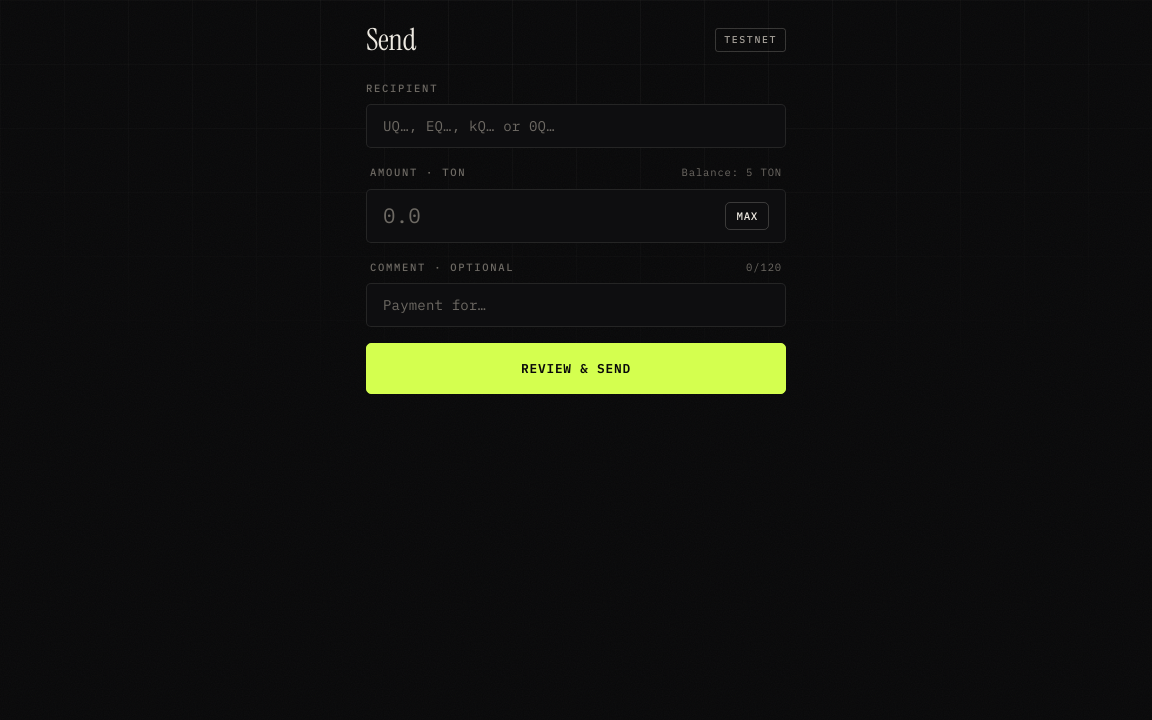
Test case: Send page — validation › accepts the 0Q… form the wallet generates for itself
This screenshot has width=1152, height=720.
In the field with placeholder "UQ…, EQ…, kQ… or 0Q…": (576, 126) [383,117,769,135], type "0QB8D0jMgaptSs8Jr79WLmFumjm3WxhTT8GyfP_gyRaaSe62"
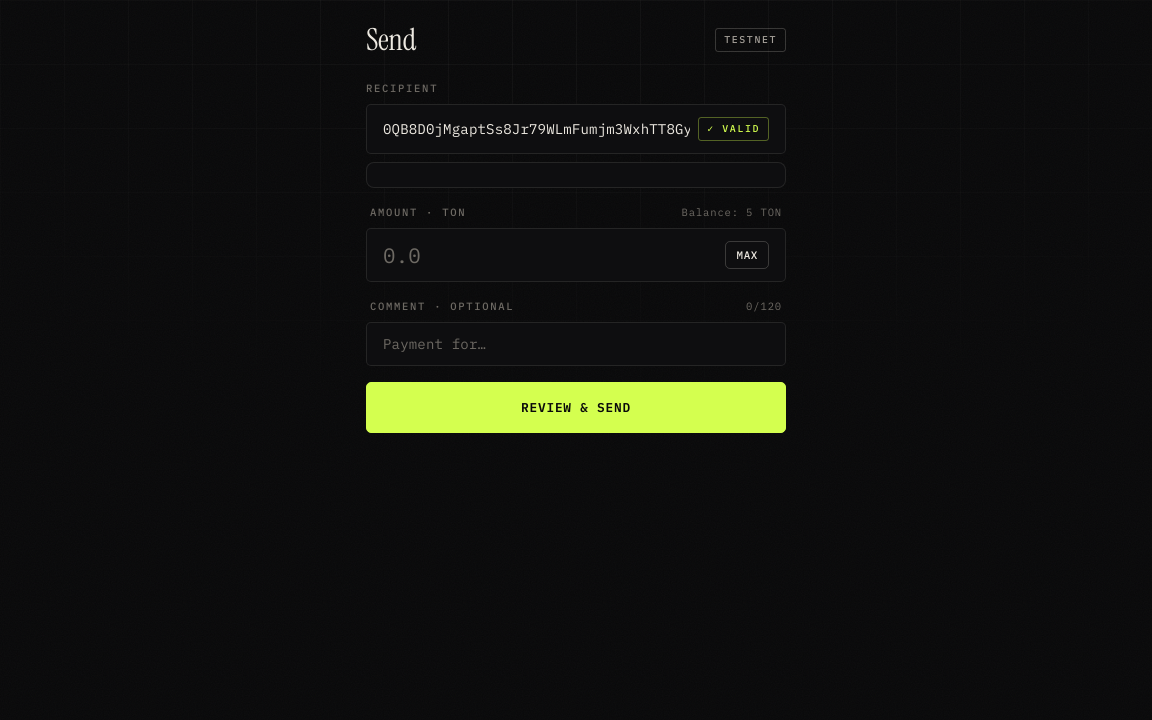
In the field with placeholder "0.0": (550, 255) [383,242,718,268], type "1"
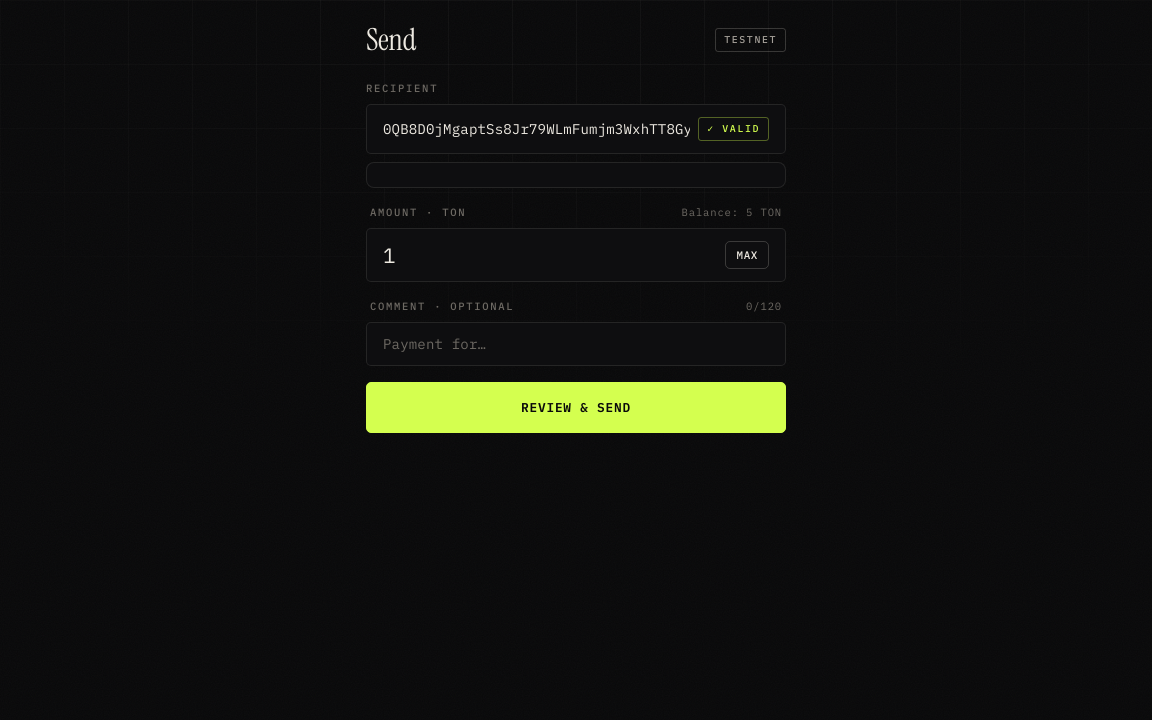
Click the button "Review & Send": (576, 408) [366,382,786,433]
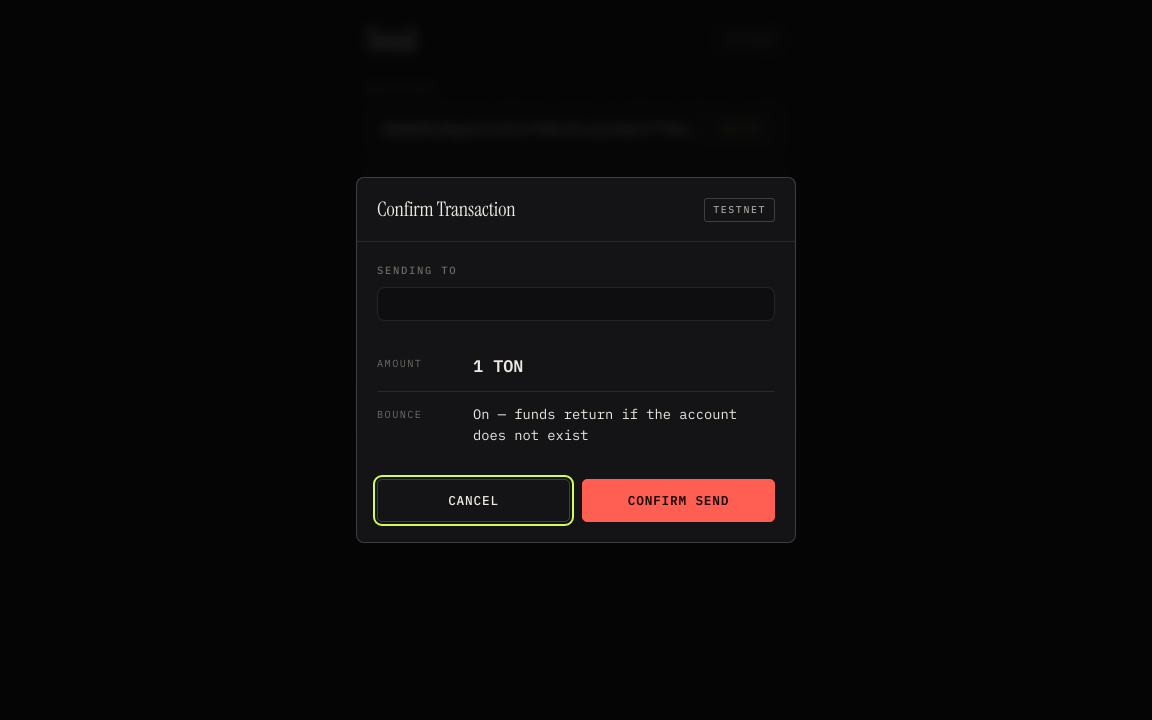
Now the heading "Confirm Transaction" is shown, box [377,194,516,226]
